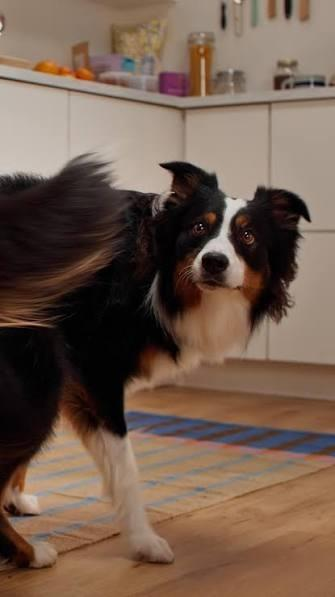adult_dog: (0, 151, 310, 573)
